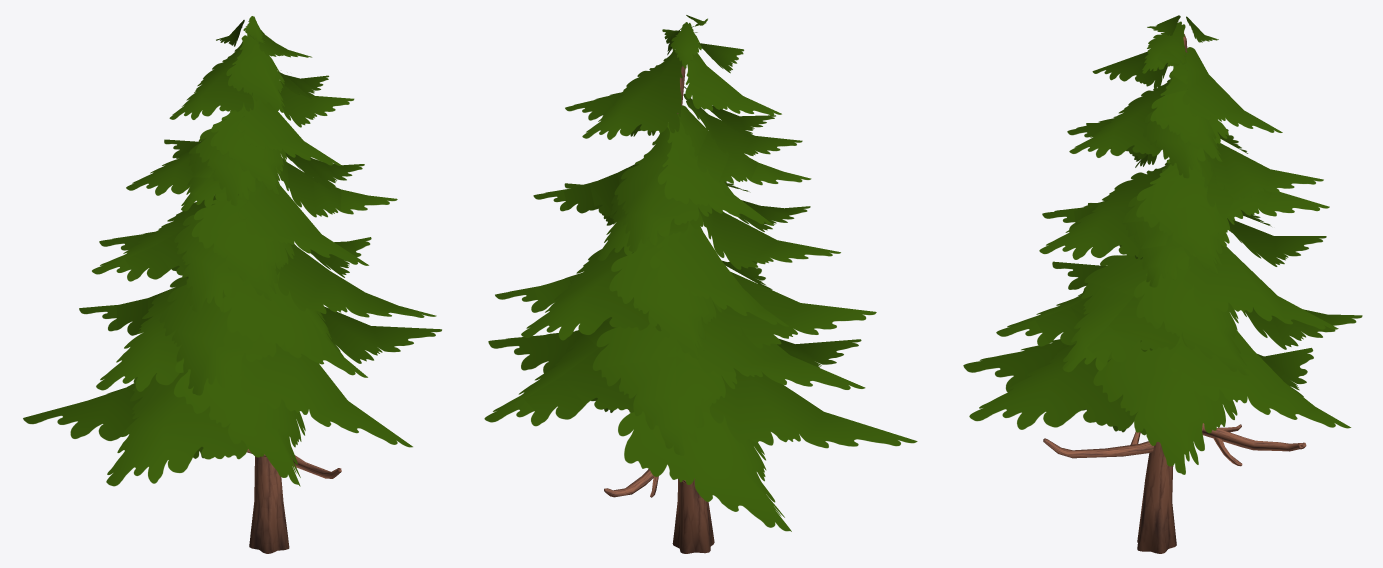
Rendered from pine-4.glb.
3 views of the same model, side by side, from view 1: azimuth 30°, elevation 25°; view 2: azimuth 150°, elevation 25°; view 3: azimuth 270°, elevation 25° (orthographic). The views are drawn at different scales.
Visible parts, largest first — view 1: Pine_2; view 2: Pine_2; view 3: Pine_2.
Part boxes in pixels (x1,y1,x2,y2): Pine_2: (23, 16, 441, 553); Pine_2: (484, 15, 917, 553); Pine_2: (963, 15, 1362, 553).
Size of the model in its own units: 5.73 by 7.38 by 5.22.
2 materials, 2 textured.
